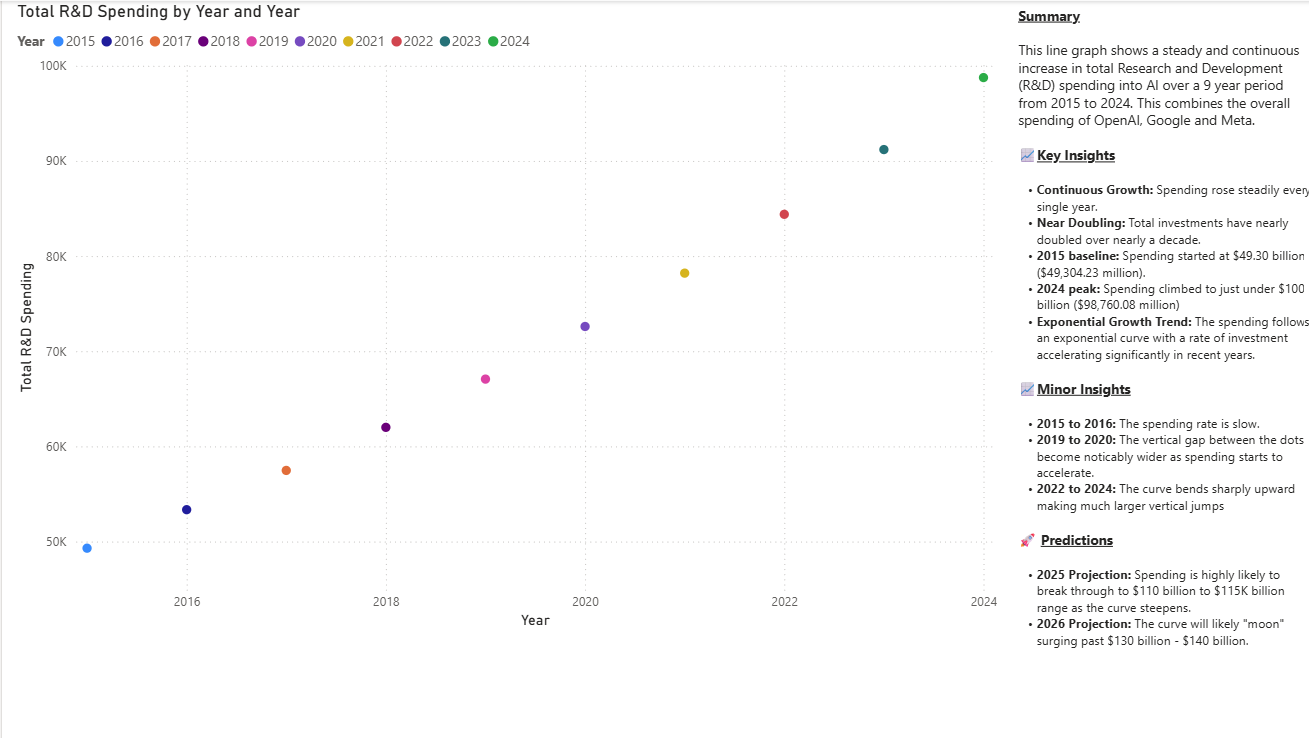

Layout of this report page (visuals, bound fields, positions):
{"tool":"powerbi","page":{"name":"Total spending","canvas":[1280,720],"ordinal":0},"visuals":[{"type":"lineChart","fields":{"Category":["Calendar.Year"],"Y":["Calendar.Total R&D Spending"]},"box":[9.7,0,962.9,614.7],"z":0},{"type":"textbox","box":[983,0,297,615],"z":1}]}

Visuals, with their boxes in screenshot pixels (x1, y1, x2, y2), scaled from the page's 1280x720 canvas onto the 1309x738 screenshot:
lineChart - Calendar.Year x Calendar.Total R&D Spending: left=10, top=0, right=995, bottom=630
textbox: left=1005, top=0, right=1308, bottom=630
